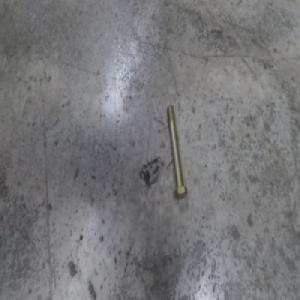Bolt: (166, 104, 188, 198)
